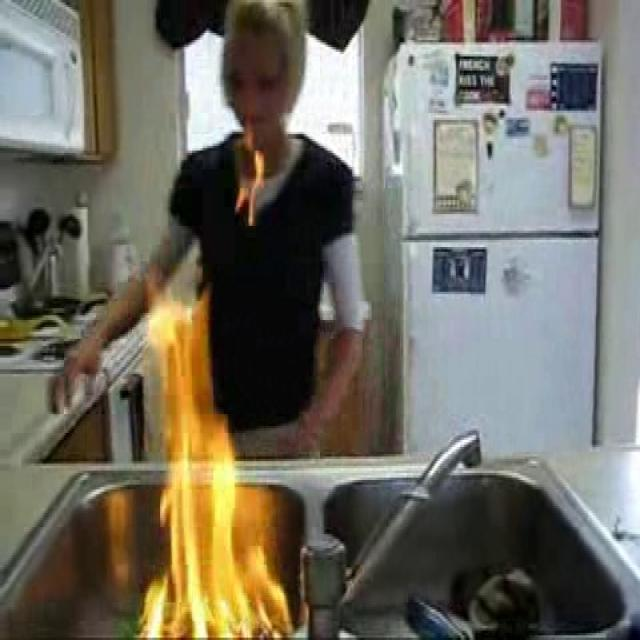fire: (151, 312, 260, 630)
